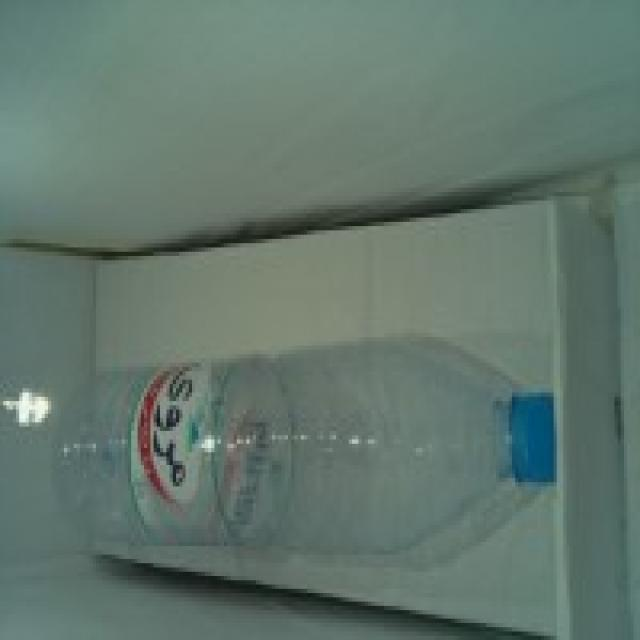Anorganik: (54, 333, 550, 542)
